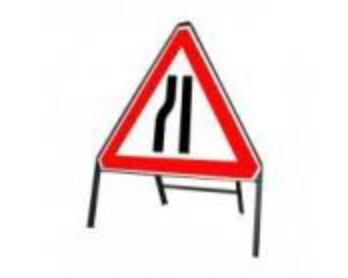Narrow_road: (99, 19, 265, 187)
